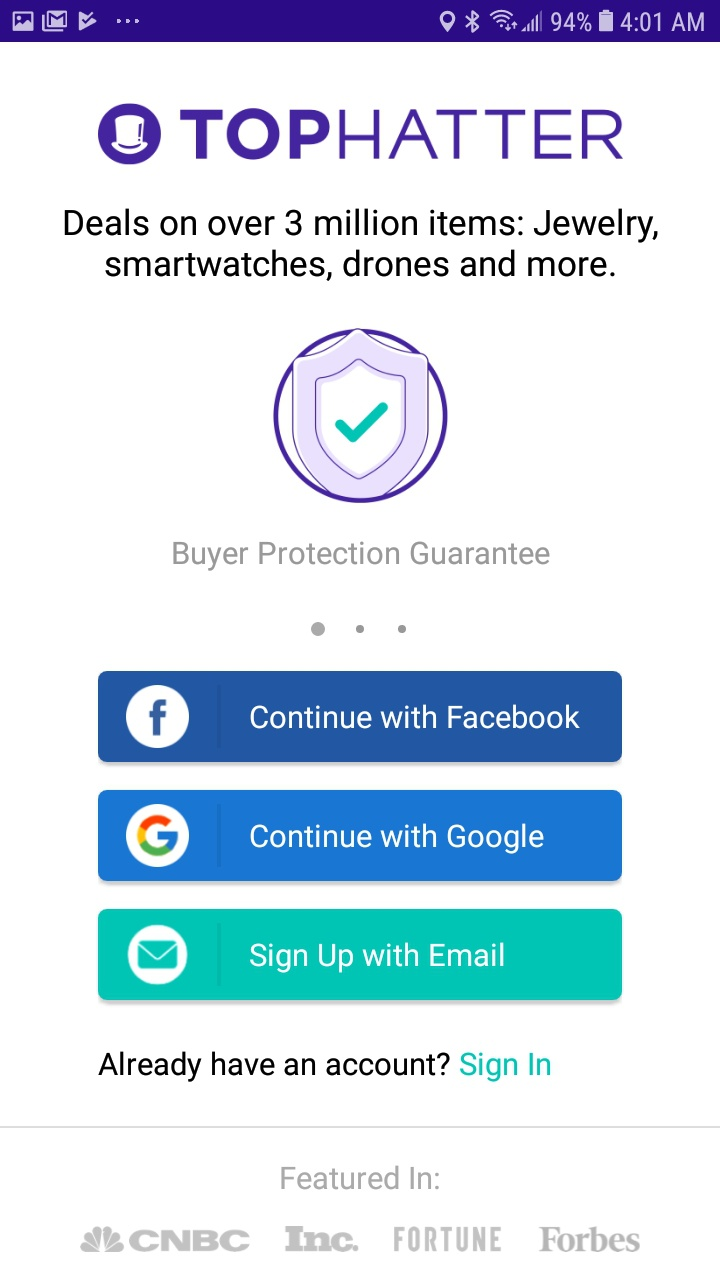Image: (273, 328, 449, 504), (98, 103, 163, 166), (80, 1225, 125, 1253)
PageIndicator: (311, 621, 408, 637)
Text: (65, 208, 659, 282), (180, 108, 623, 161), (98, 1050, 551, 1083), (173, 541, 551, 572), (281, 1164, 441, 1191), (538, 1225, 641, 1253), (394, 1226, 502, 1252), (129, 1229, 251, 1252), (285, 1225, 360, 1253)
TextButton: (98, 790, 623, 882), (98, 909, 623, 1001), (98, 671, 622, 763)
UpperTaskBar: (1, 1, 720, 43)
